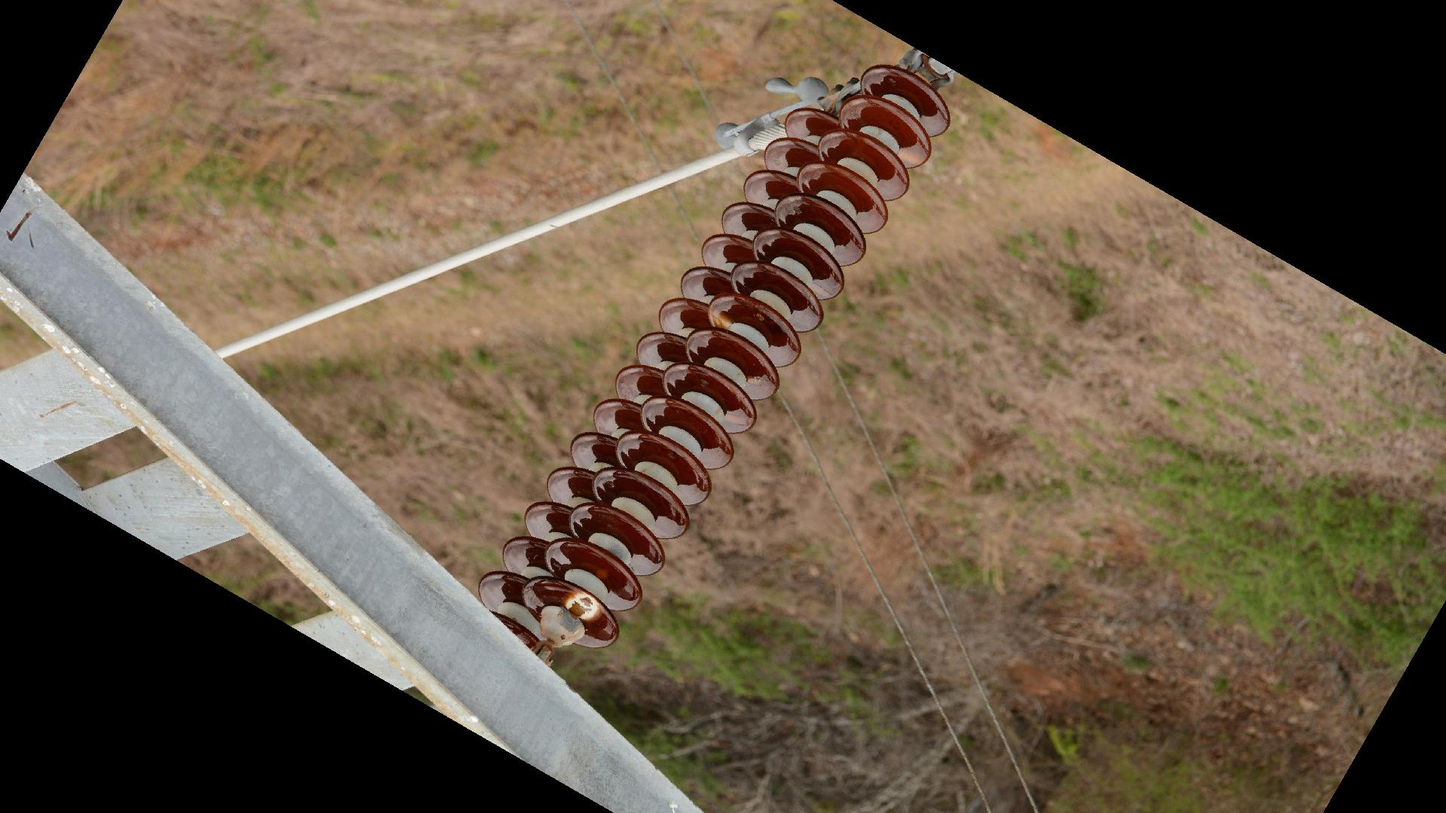insulator: (474, 58, 955, 663)
insulator_flashover: (563, 589, 601, 623), (706, 306, 733, 332), (897, 148, 926, 166)
